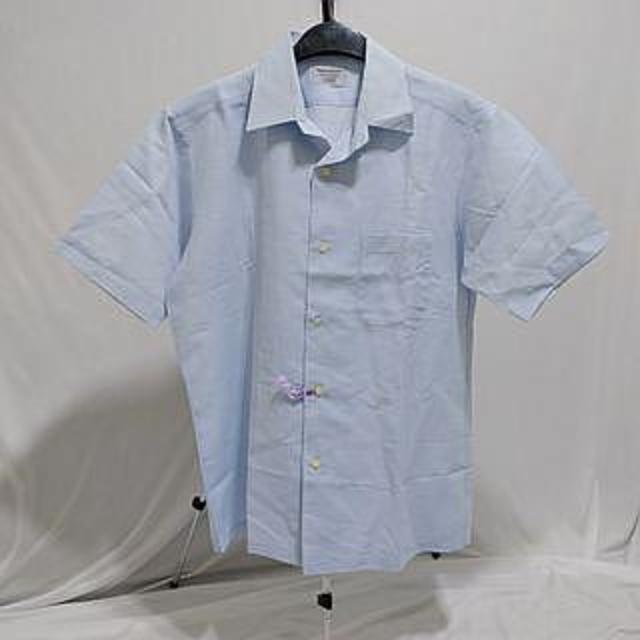SHIRT: (45, 14, 624, 583)
